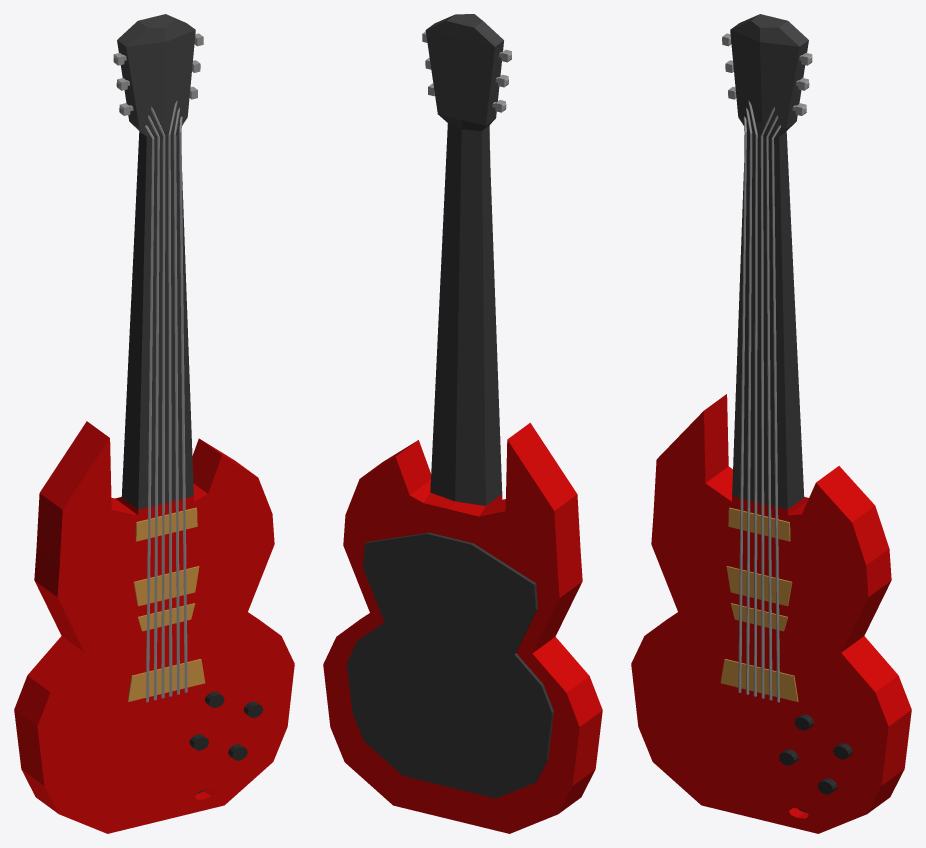
The model's file is Guitar.fbx.
The picture shows the model from 3 angles, left to right: view 1: azimuth 30°, elevation 25°; view 2: azimuth 150°, elevation 25°; view 3: azimuth 330°, elevation 25°; orthographic projection.
Parts seen in each view (by area): view 1: Guitar; view 2: Guitar; view 3: Guitar.
Boxes of the visible parts, x1,y1,x2,y2 form: Guitar: (14,14,294,833); Guitar: (323,14,602,833); Guitar: (631,14,911,833).
Size of the model in its own units: 416 by 1222 by 82.49.
